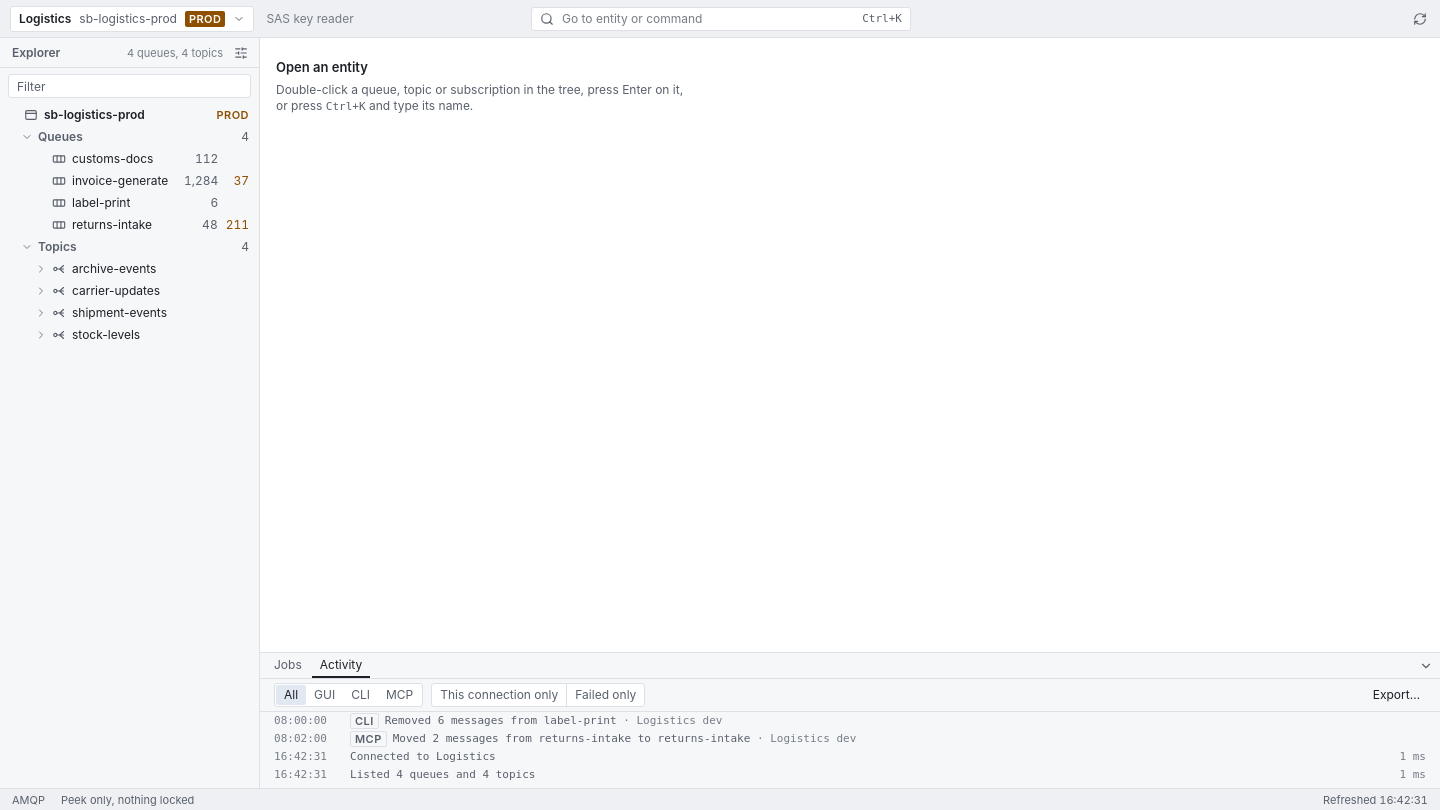
Test: palette › groups commands, shows shortcuts and says so when nothing matches
expect the element named "Namespace" is shown: met, box [21,107,249,342]
Type keys "{Control>}k{/Control}"
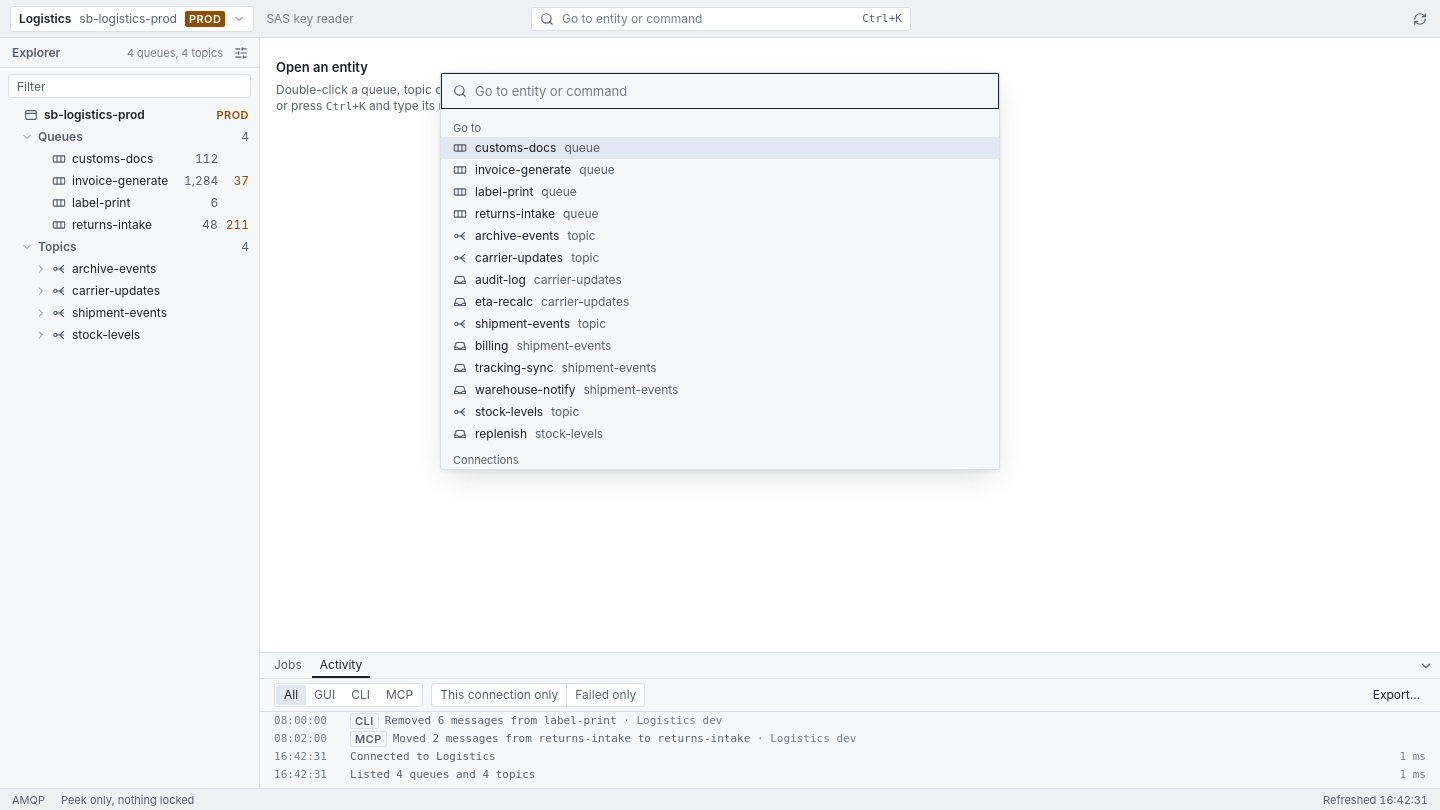
expect the text "Go to" is shown: met, box [453,121,481,135]
expect the text "Connections" is shown: met, box [453,453,518,467]
In the dropdown with placeholder "Go to entity or command": (731, 90) [475,73,987,108], type "zzzzqq"
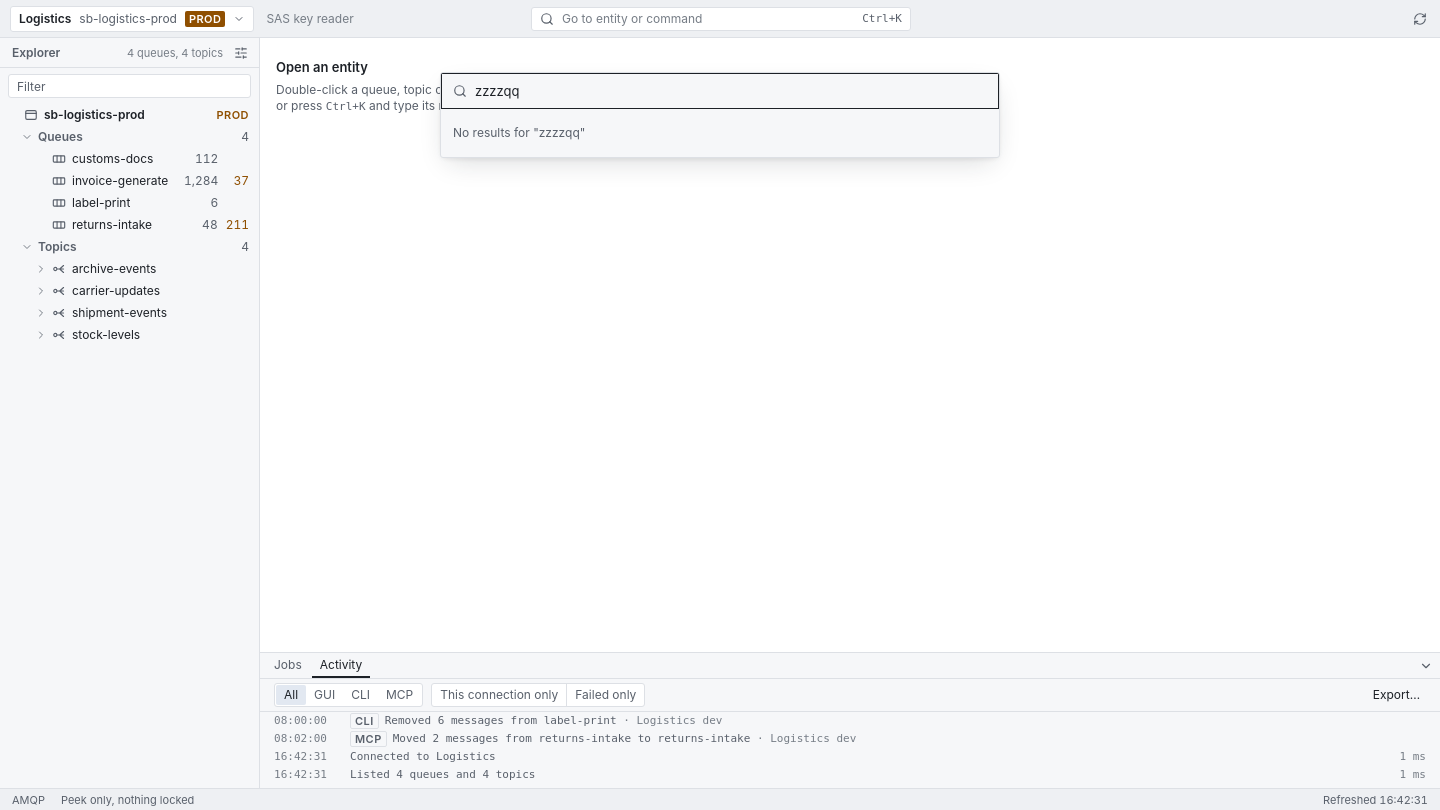
expect the text "No results for \"zzzzqq\"" is shown: met, box [453,125,585,140]
